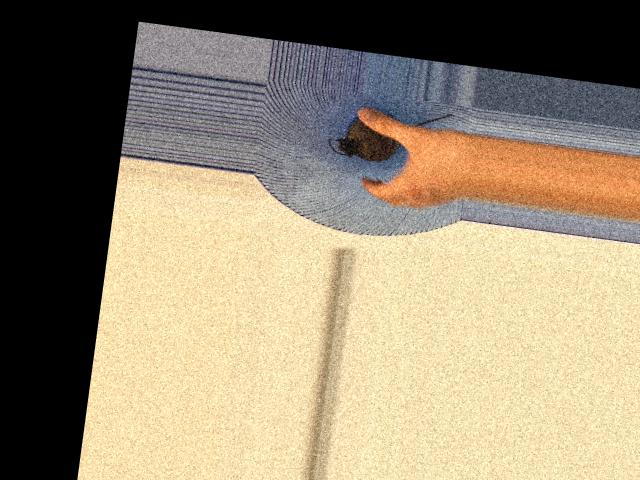beet: (326, 97, 452, 170)
